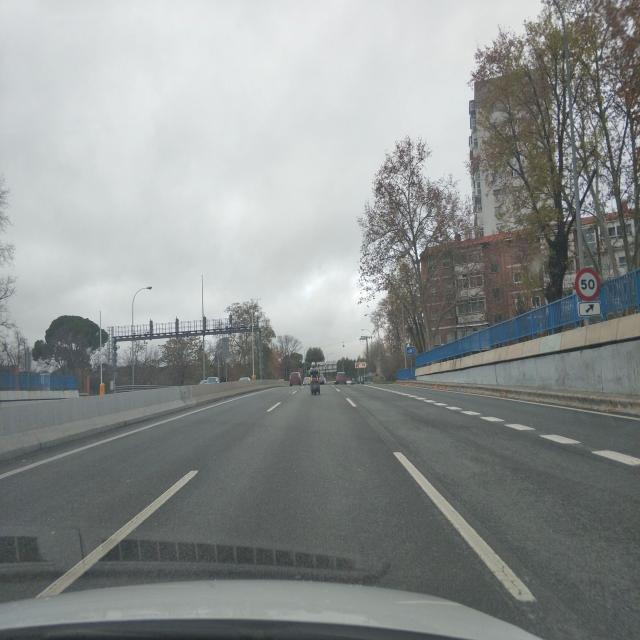car: (289, 372, 302, 385), (203, 375, 220, 384), (302, 375, 312, 385), (239, 374, 252, 381), (346, 378, 354, 384)
